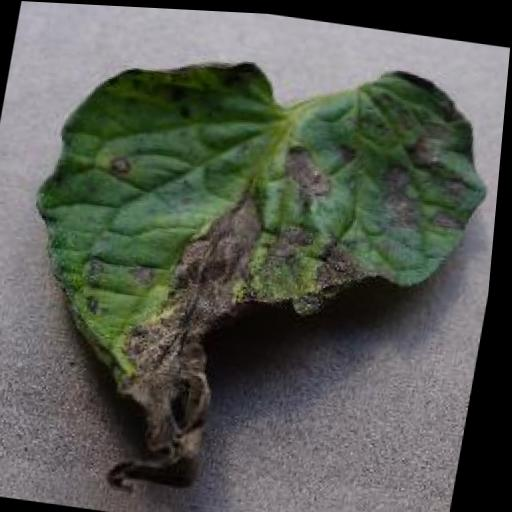Early Blight: (0, 18, 507, 512)
